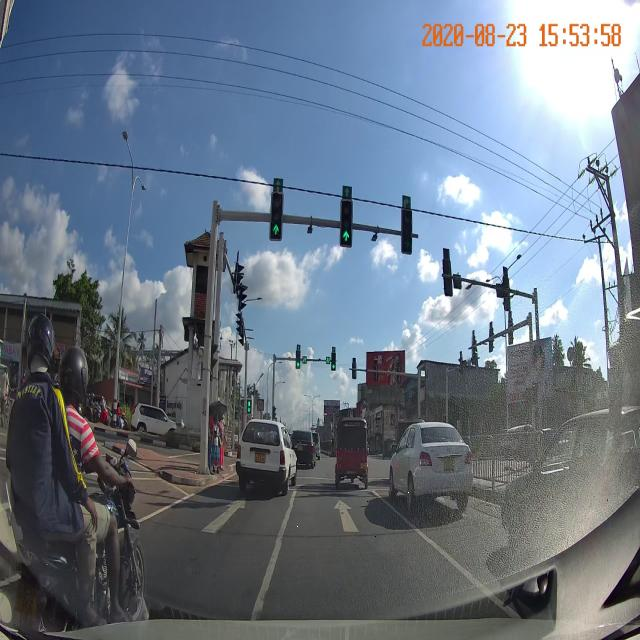forward: (275, 491, 430, 543)
